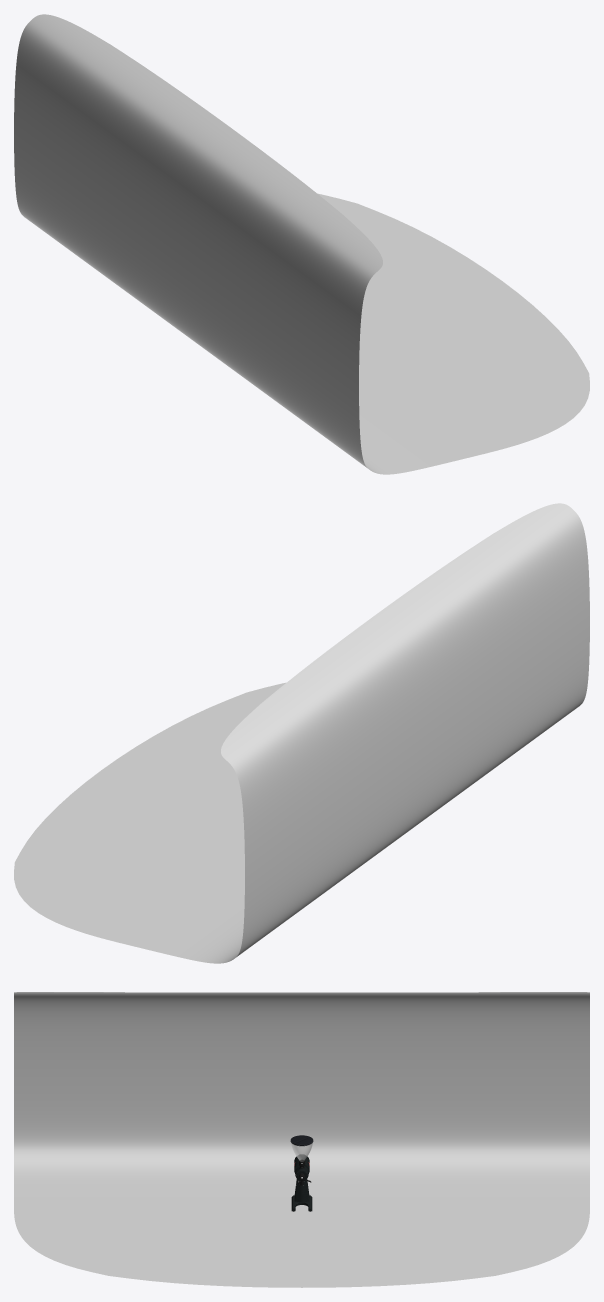
3 renders of one model, top to bottom at view 1: azimuth 30°, elevation 25°; view 2: azimuth 150°, elevation 25°; view 3: azimuth 270°, elevation 25°, orthographic. The views are drawn at different scales.
Visible parts, largest first — view 1: Plane_0; view 2: Plane_0; view 3: Plane_0, Mahlkonig EK43 Coffee Grinder_5.
Part boxes in pixels (x1,y1,x2,y2): Plane_0: (14,14,589,474); Plane_0: (14,503,589,963); Plane_0: (14,992,589,1287); Mahlkonig EK43 Coffee Grinder_5: (290,1135,313,1211).
Bounding box in the file's own units: 3.05 × 2.03 × 5.77.
6 materials, 2 textured.
